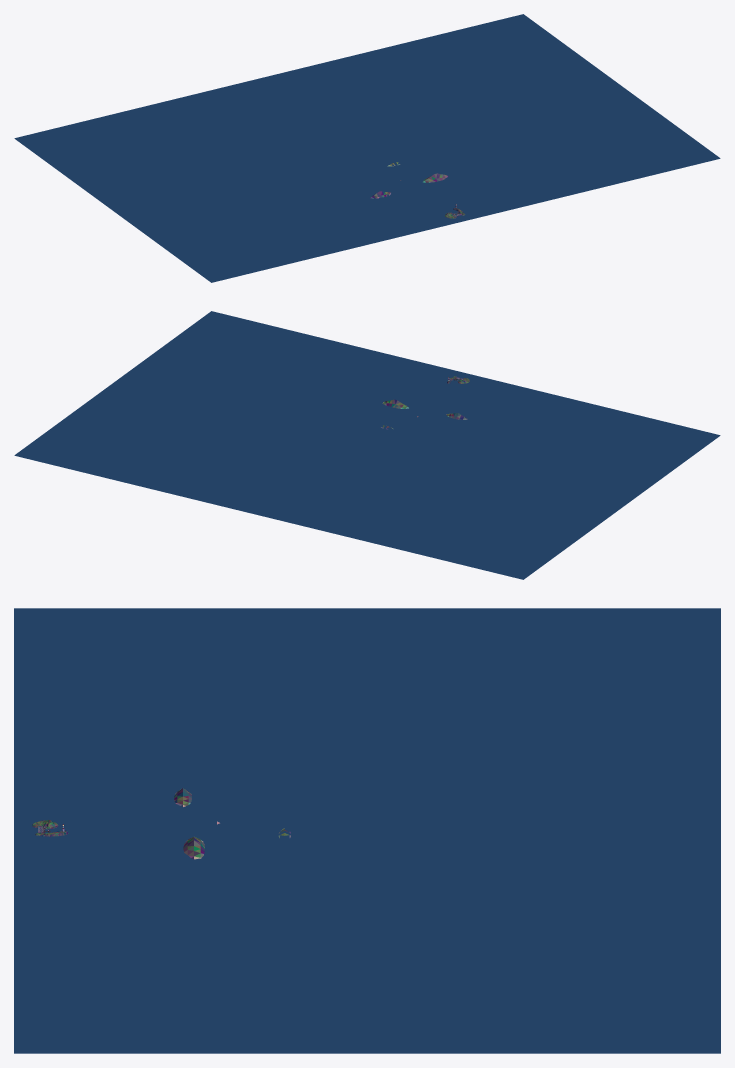
The model's file is harbor_lowpoly.glb.
The picture shows the model from 3 angles, top to bottom: view 1: azimuth 30°, elevation 25°; view 2: azimuth 150°, elevation 25°; view 3: azimuth 270°, elevation 25°; orthographic projection. The views are drawn at different scales.
Visible parts, largest first — view 1: Sea; view 2: Sea; view 3: Sea, IslandsFar.
Boxes of the visible parts, left/top/right/bottom form: Sea: left=14, top=14, right=720, bottom=282; Sea: left=14, top=311, right=720, bottom=579; Sea: left=14, top=608, right=720, bottom=1053; IslandsFar: left=174, top=788, right=290, bottom=859.
Bounding box in the file's own units: 1400 × 18.2 × 940.
